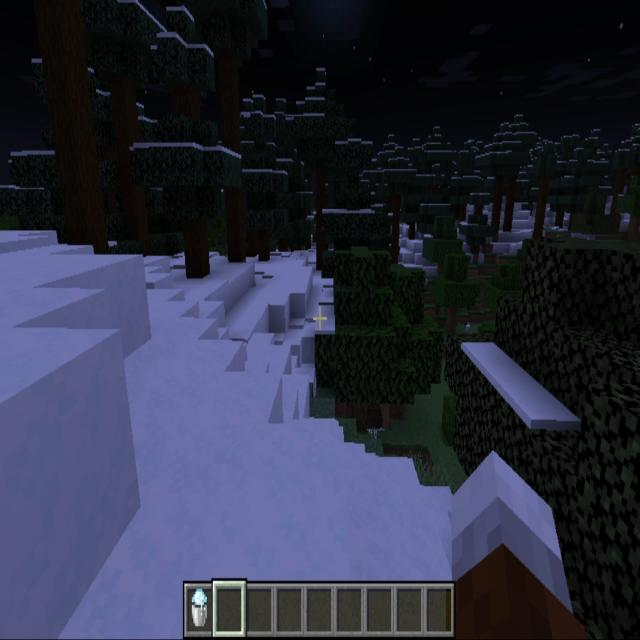Chicken: (464, 322, 471, 332)
